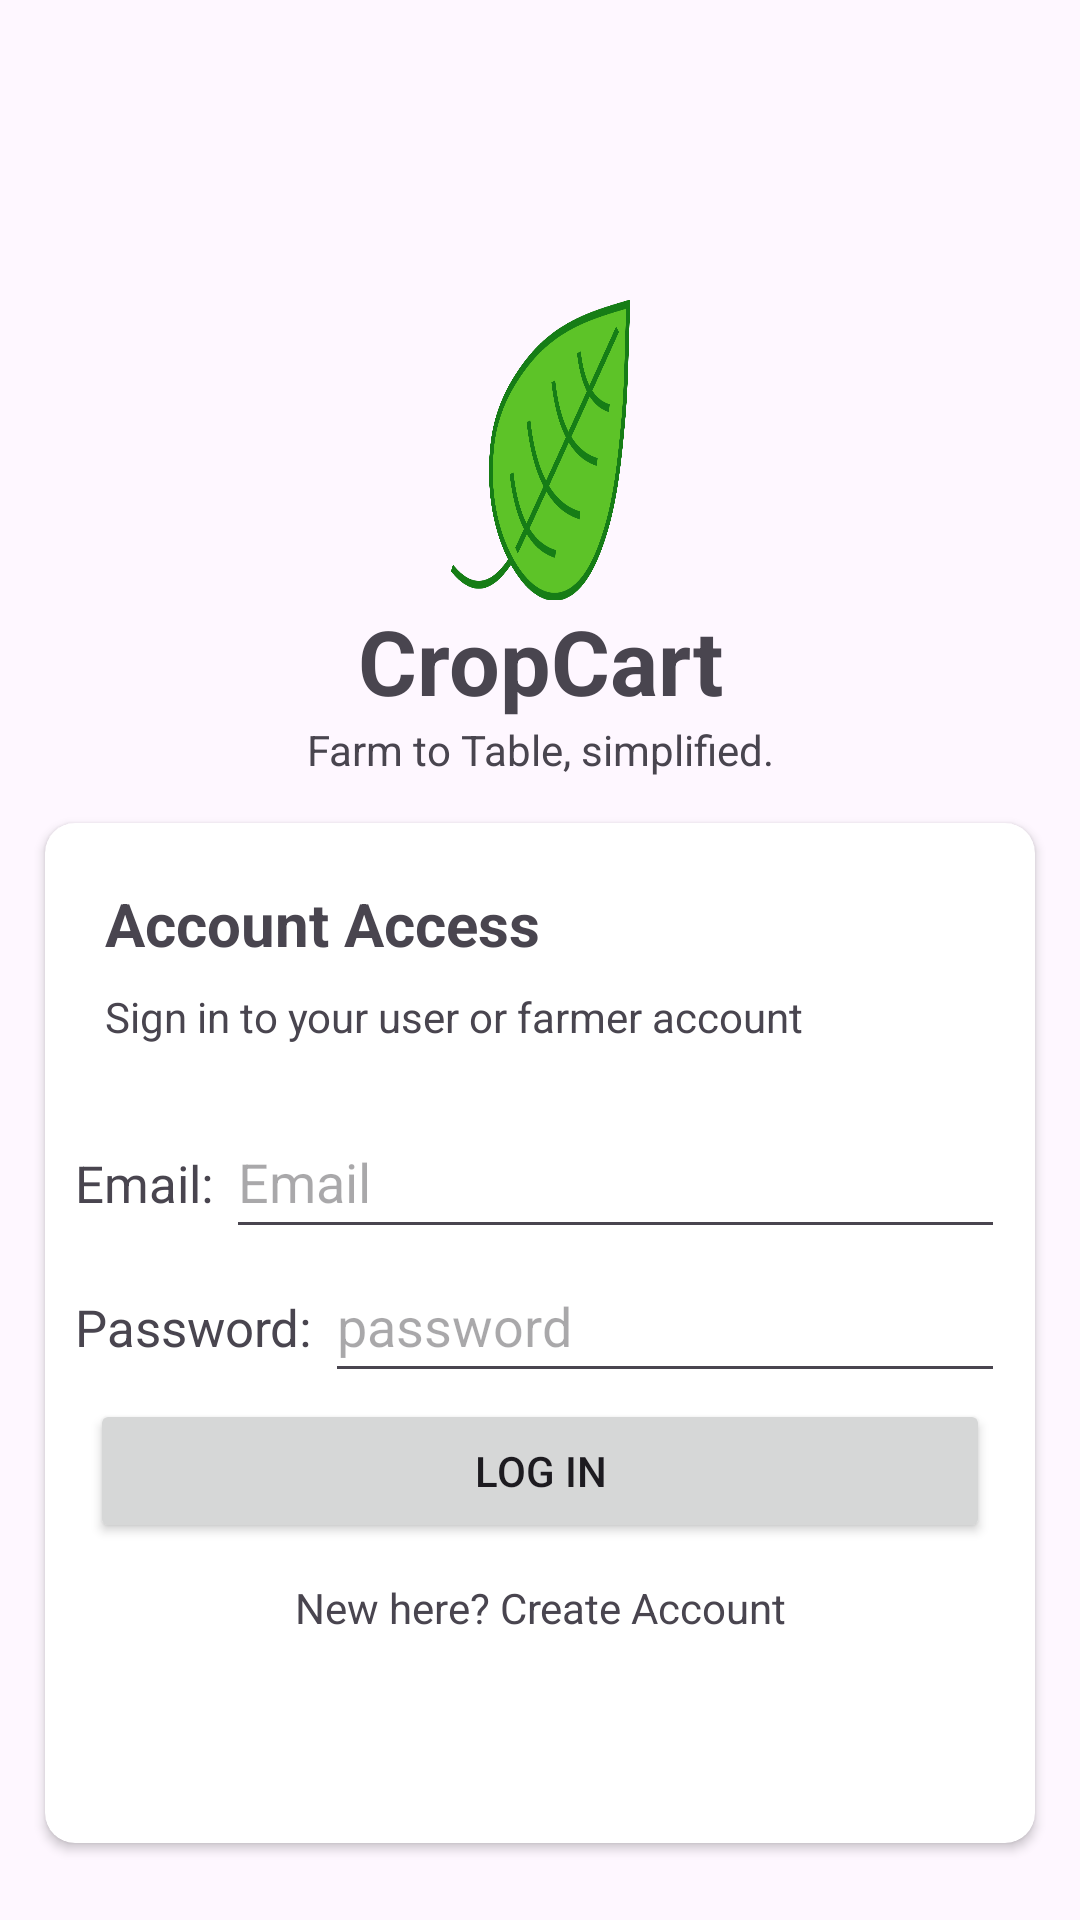

Locate icon controls on the screen. Image size 1080 x 1920, boxes as (x1=x1, y1=y1, x2=x2, y2=y2).
leaves: (x1=451, y1=300, x2=630, y2=600)
